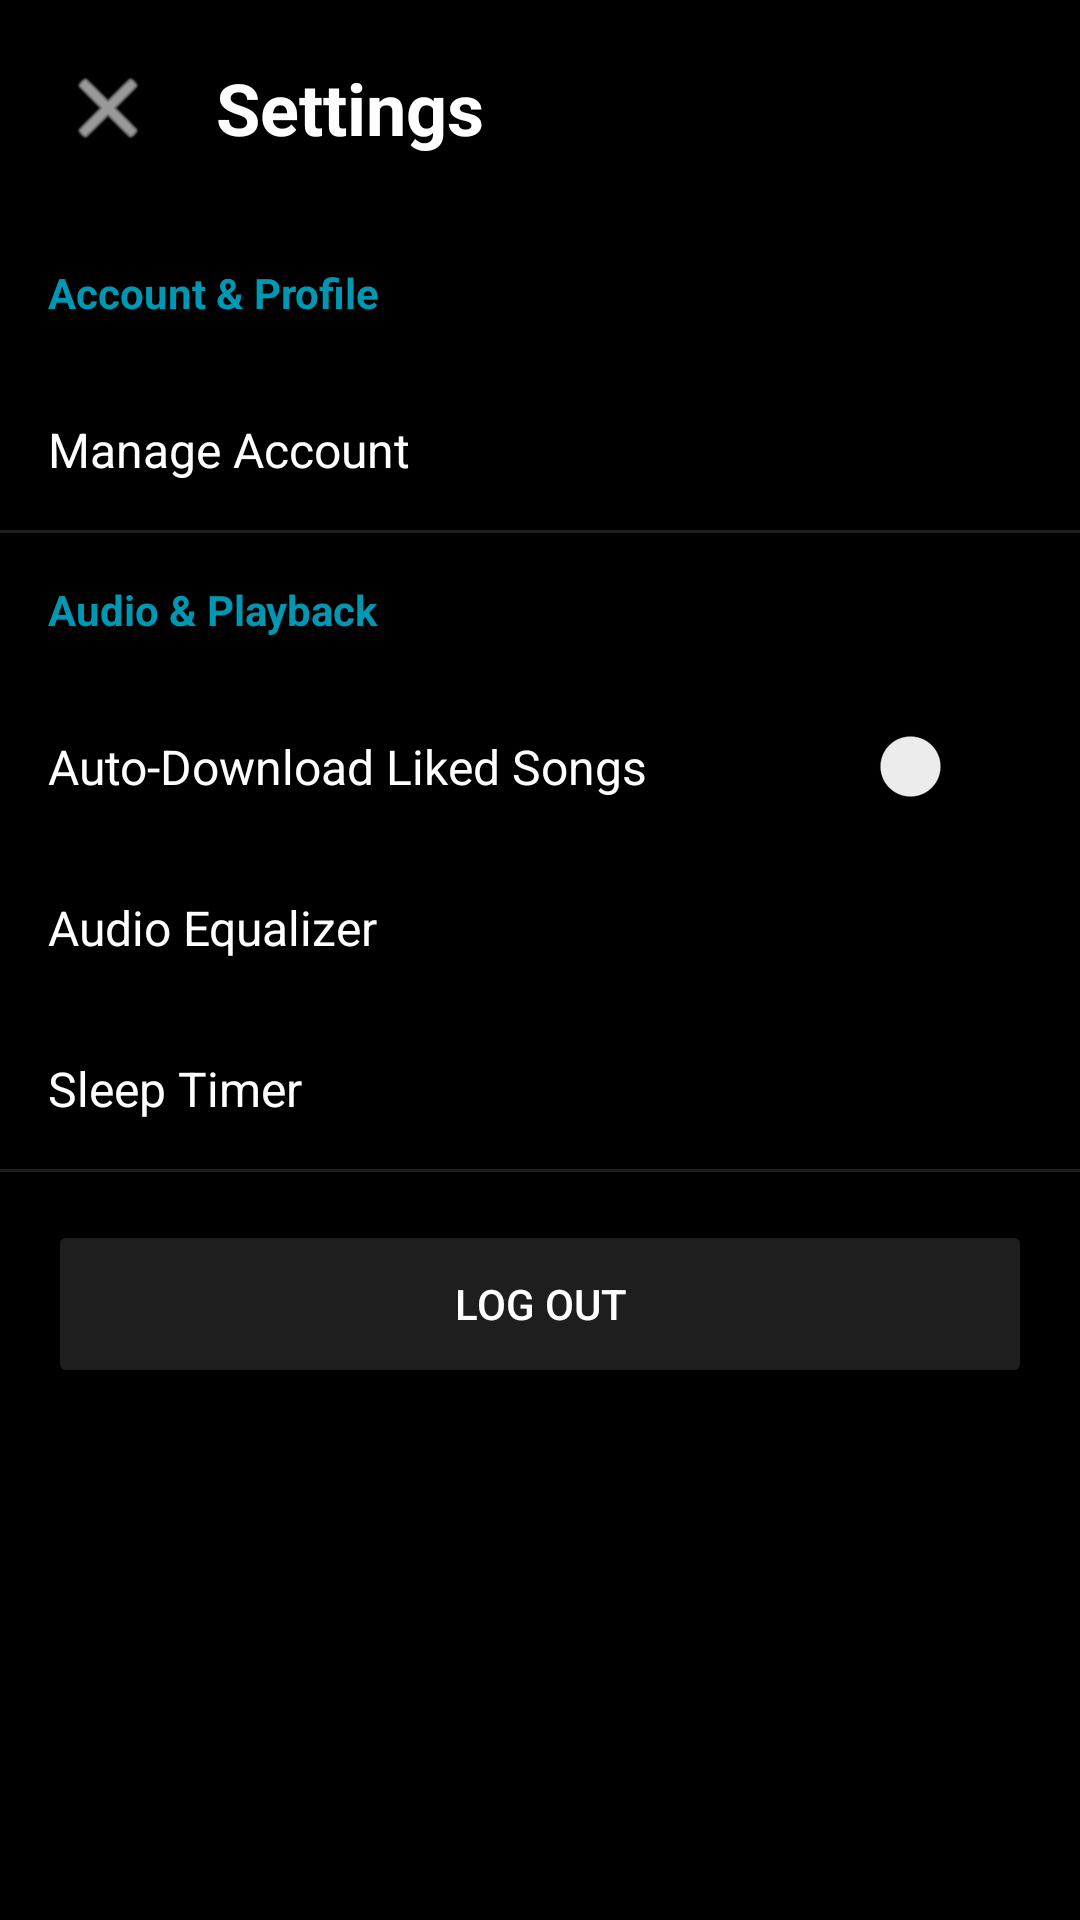

Where to tap for icons on this 1080 x 1920 app screen, as [x,y]:
close clear cancel: [108,108]
